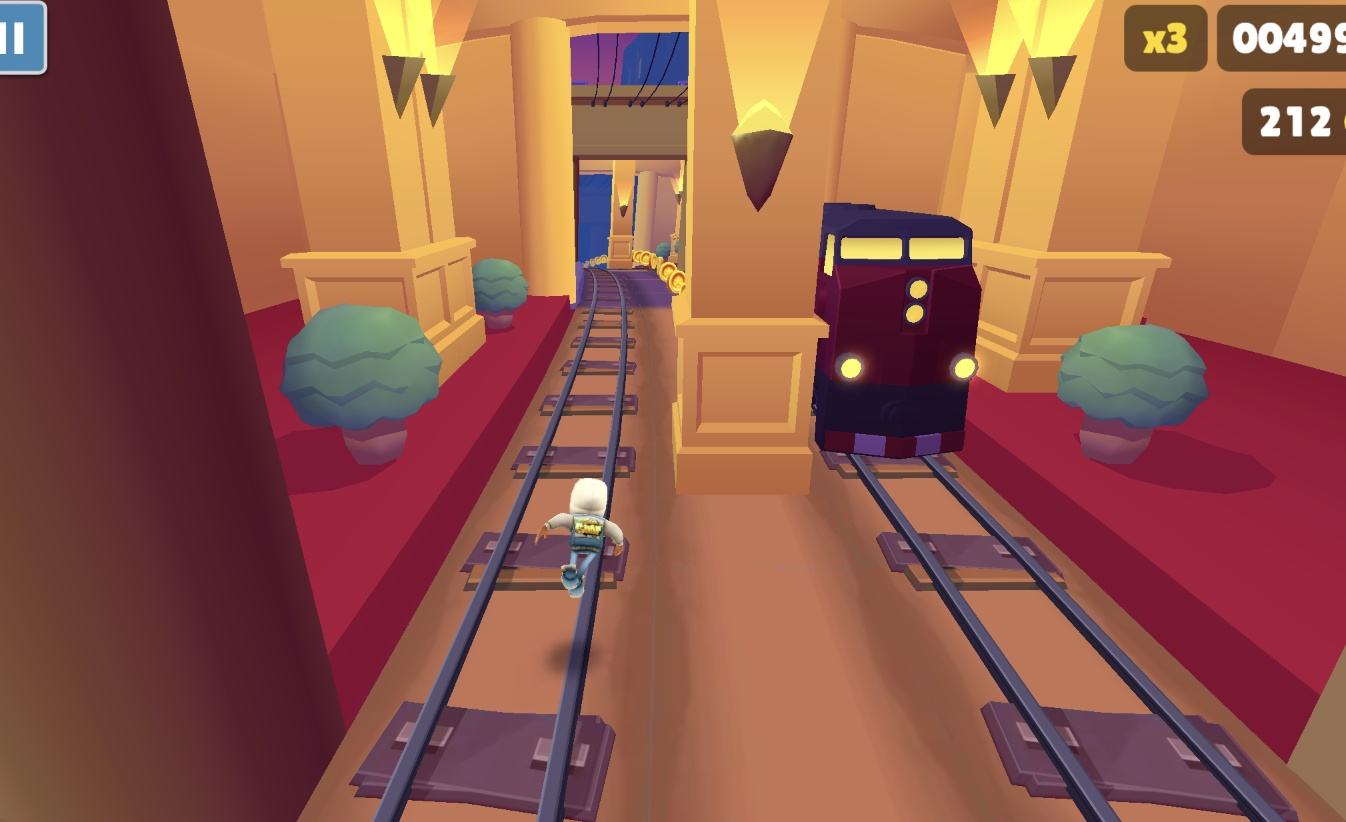pillar: (671, 0, 828, 494), (609, 158, 640, 270)
train: (812, 202, 985, 460)
